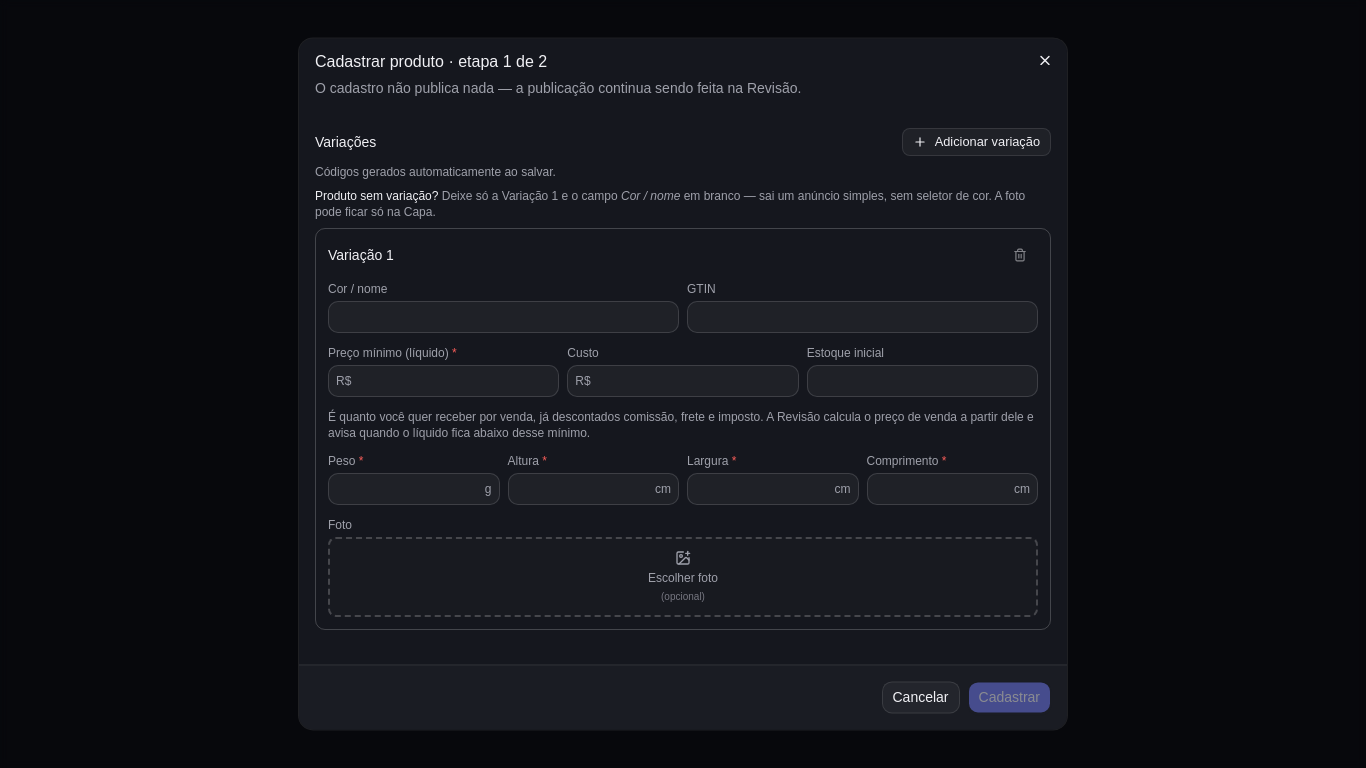
it: DialogCadastroProduto — formulário em cards › estoque inicial negativo é recusado inline
(page scrolled)
Type "-5" into the field named "Estoque inicial da variação 1" at [922, 381], box [807,365,1038,397]
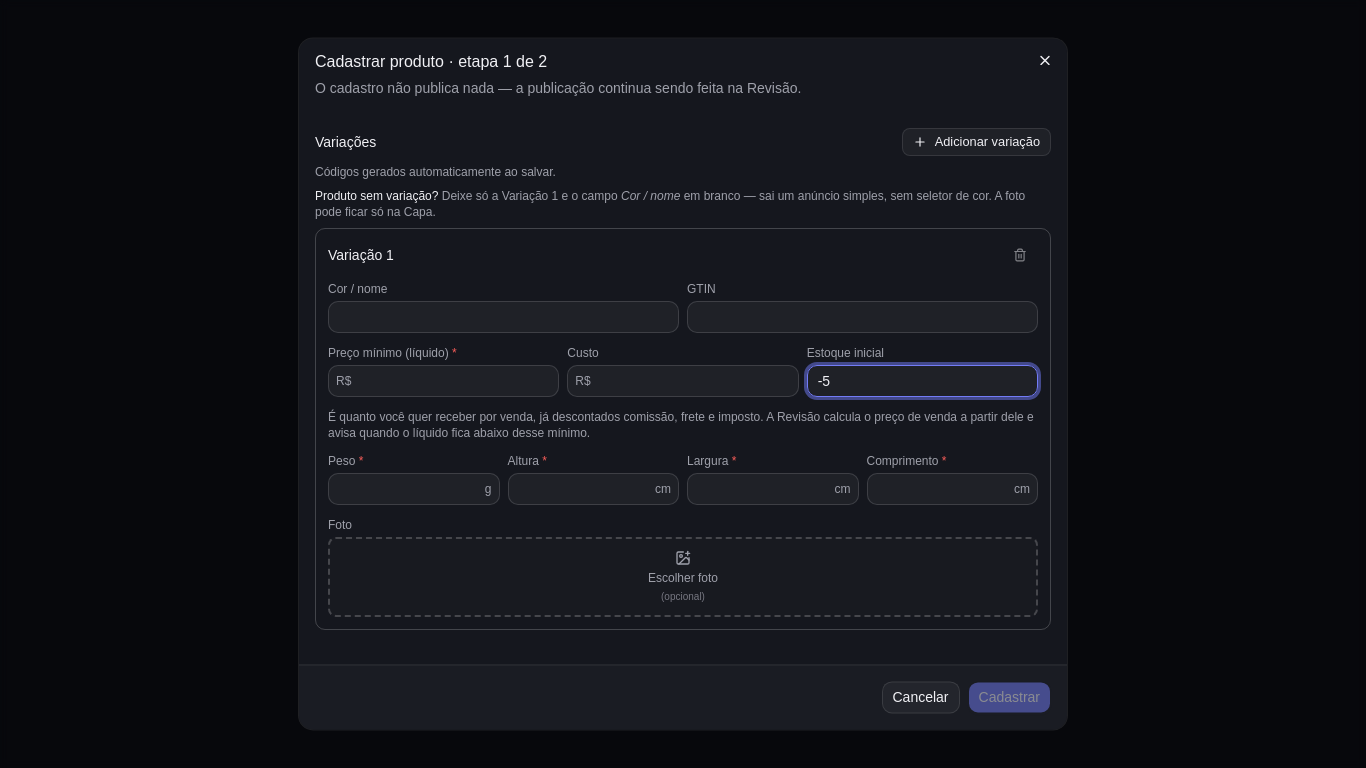
Press Tab
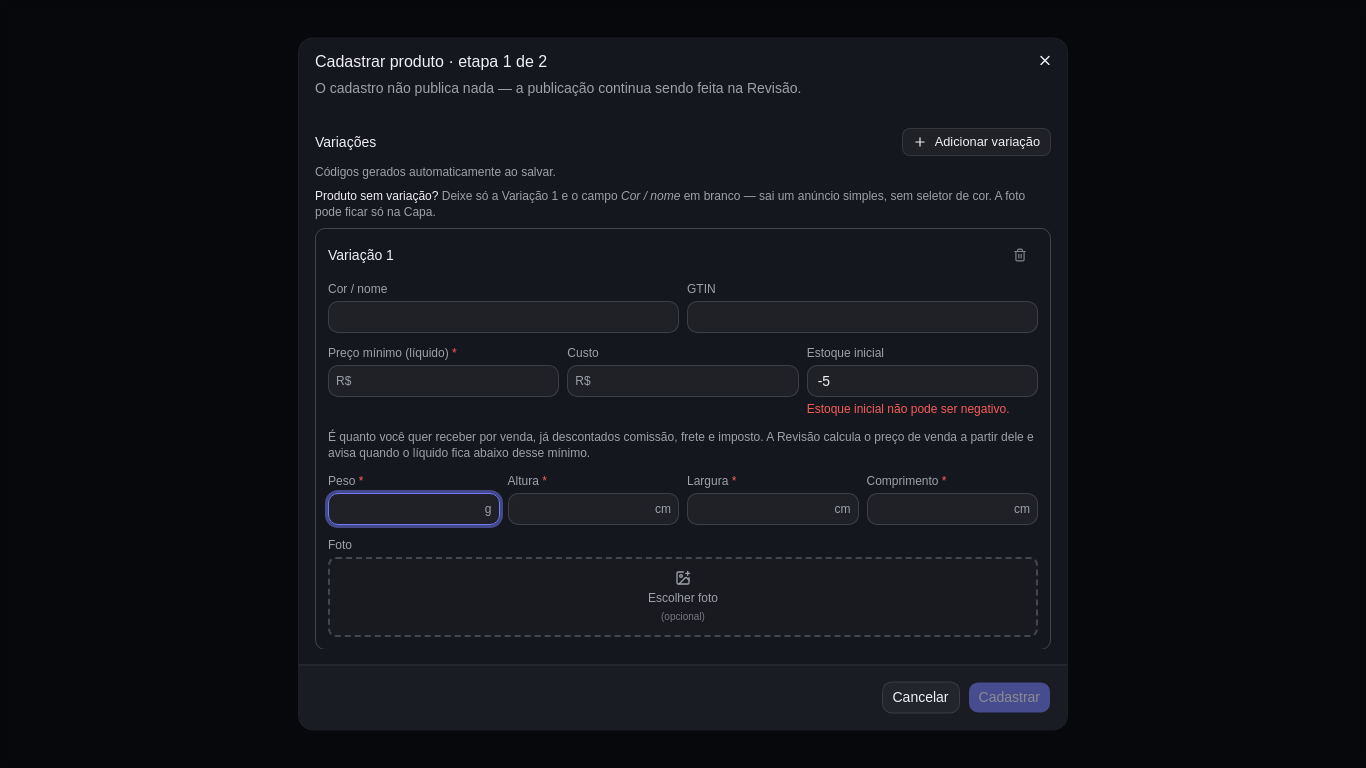
Now the text "Estoque inicial não pode ser negativo." is shown, box [807,401,1038,417]
